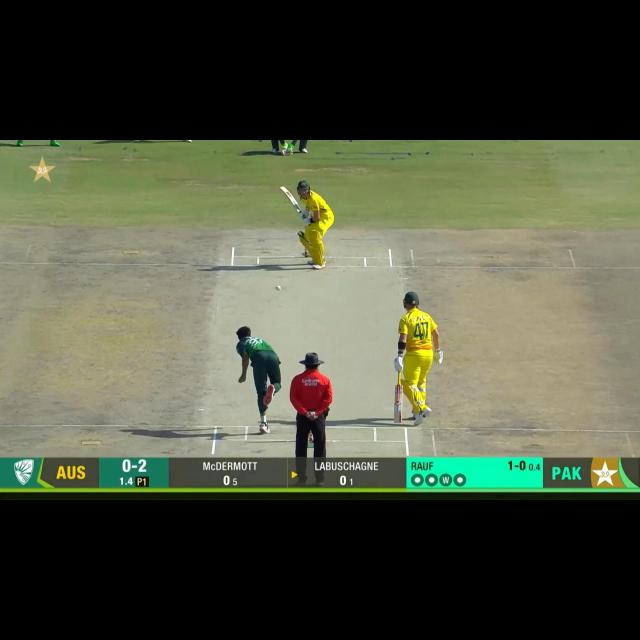bat: (278, 186, 304, 213), (394, 386, 404, 424)
toe: (278, 185, 289, 192), (394, 416, 403, 423)
